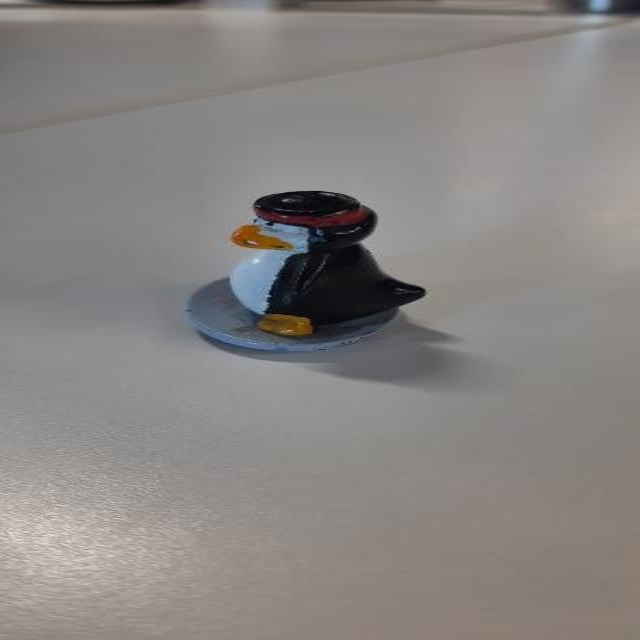Penguin: (166, 165, 446, 367)
